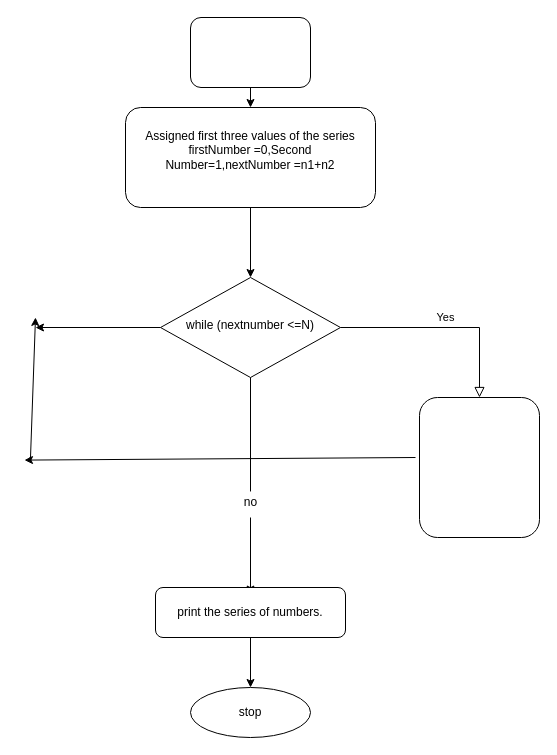
This 557x755 diagram has some shape labels left out. Here are the shapes that lost their labels. From the top down, the centre of each, then its label:
At point 250,52: "Get The N value from the user".
At point 479,467: "n1=n2; n2=nextTerm; nextTerm=n1+n2;".
